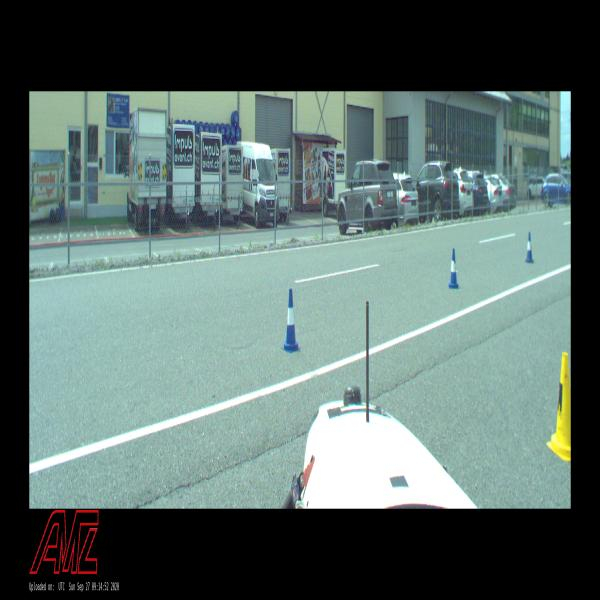blue_cone: (282, 288, 300, 353), (449, 248, 458, 288), (526, 232, 534, 262)
yellow_cone: (546, 353, 570, 460)
